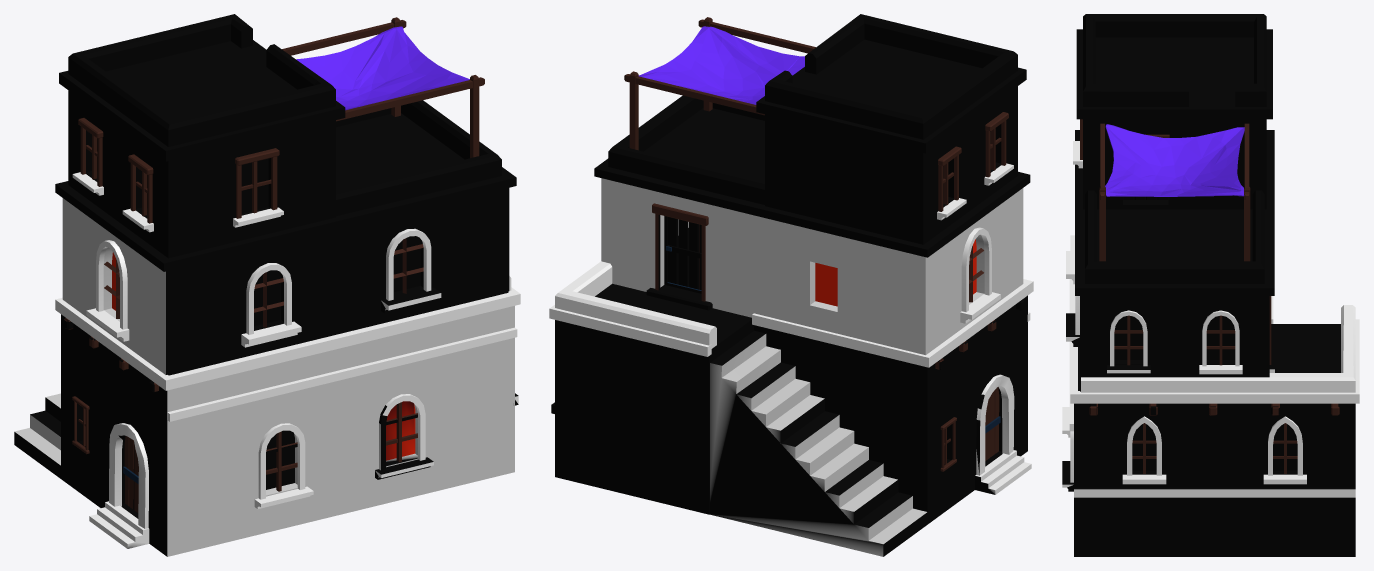
File: civilian_house_31_b.FBX
3 views of the same model, side by side, from view 1: azimuth 30°, elevation 25°; view 2: azimuth 150°, elevation 25°; view 3: azimuth 270°, elevation 25° (orthographic). The views are drawn at different scales.
Parts seen in each view (by area): view 1: civilian_house_31_b; view 2: civilian_house_31_b; view 3: civilian_house_31_b.
Part boxes in pixels (left/top/right/bottom): civilian_house_31_b: left=14, top=14, right=520, bottom=556; civilian_house_31_b: left=549, top=14, right=1033, bottom=556; civilian_house_31_b: left=1062, top=14, right=1359, bottom=556.
Bounding box in the file's own units: 1146 × 1225 × 844.
